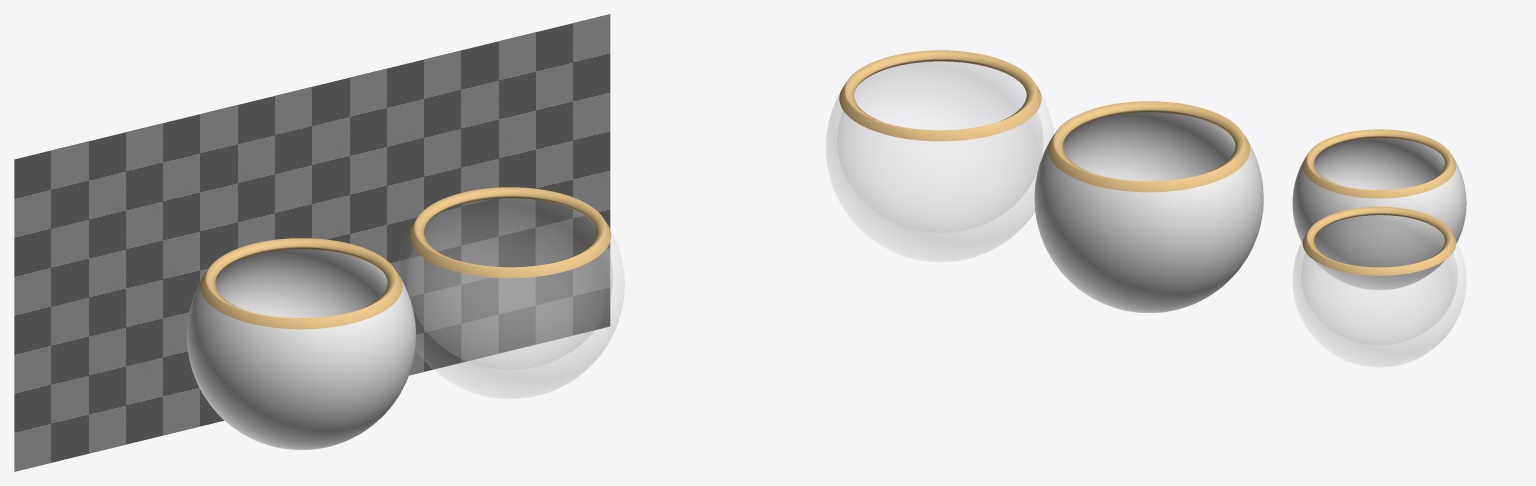
File: Compare_Transmission.glb
The picture shows the model from 3 angles, left to right: view 1: azimuth 30°, elevation 25°; view 2: azimuth 150°, elevation 25°; view 3: azimuth 270°, elevation 25°; orthographic projection. The views are drawn at different scales.
Visible parts, largest first — view 1: Checker, Sphere001, Sphere002; view 2: Sphere001, Sphere002; view 3: Sphere002, Sphere001.
Part boxes in pixels (x1,y1,x2,y2): Checker: (14, 14, 610, 471); Sphere001: (187, 238, 415, 449); Sphere002: (396, 187, 624, 398); Sphere001: (1034, 101, 1263, 313); Sphere002: (826, 50, 1053, 261); Sphere002: (1292, 206, 1466, 367); Sphere001: (1292, 129, 1466, 290).
Bounding box in the file's own units: 3 × 1.5 × 1.32.
Materials: 4 (2 with a texture image).
